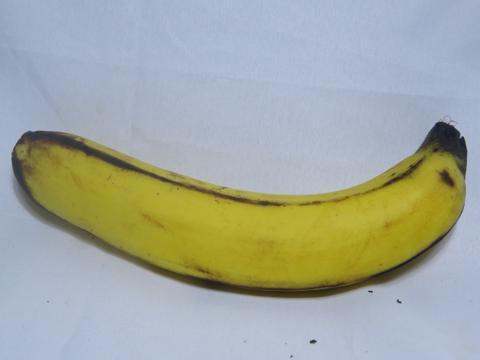ripe: (12, 100, 479, 310)
